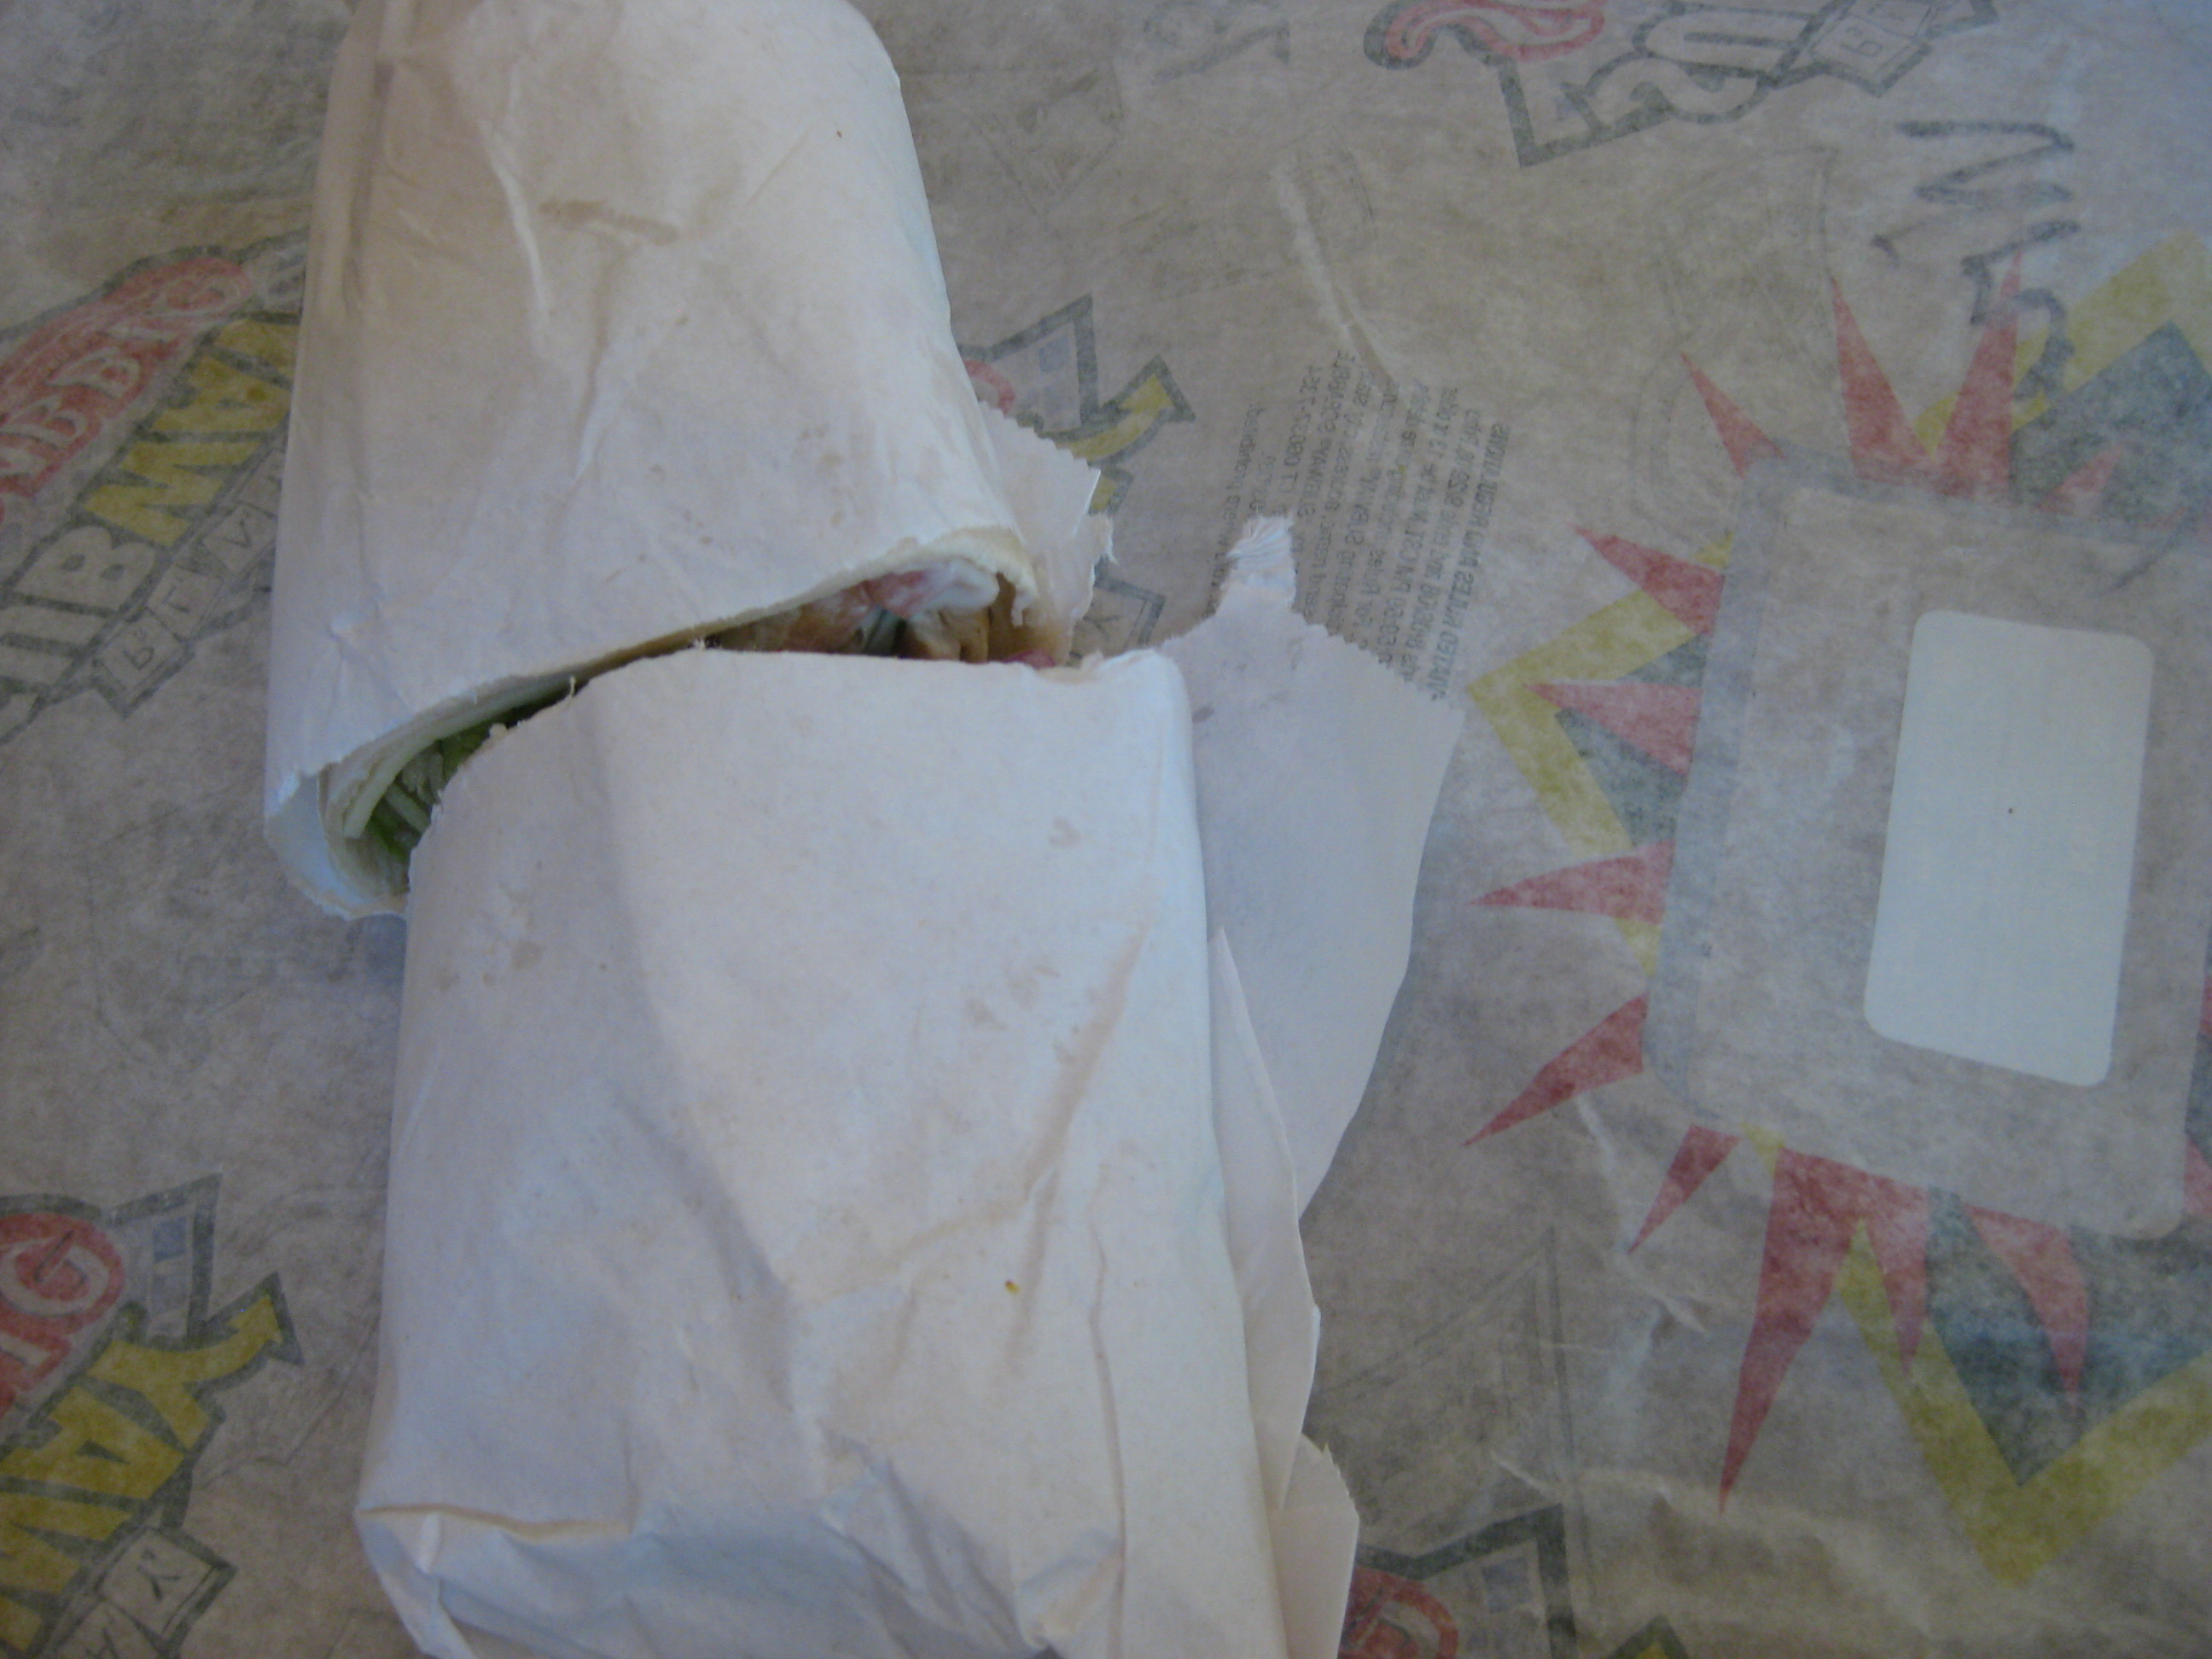burrito: (253, 24, 1284, 1628)
